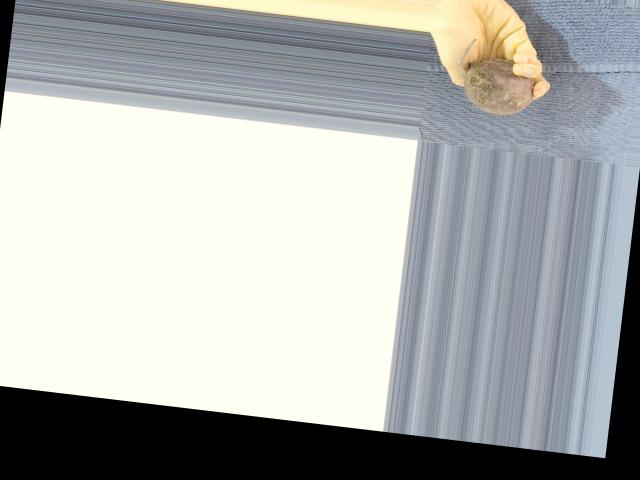beet: (453, 35, 540, 117)
